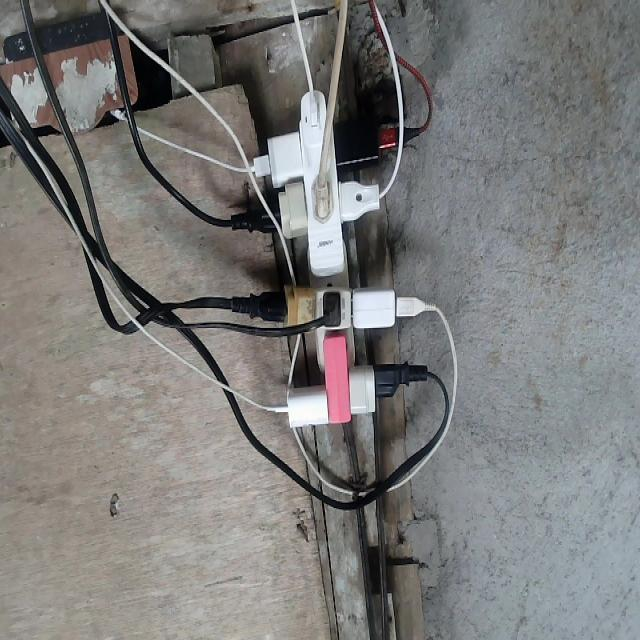-: (234, 92, 401, 427)
